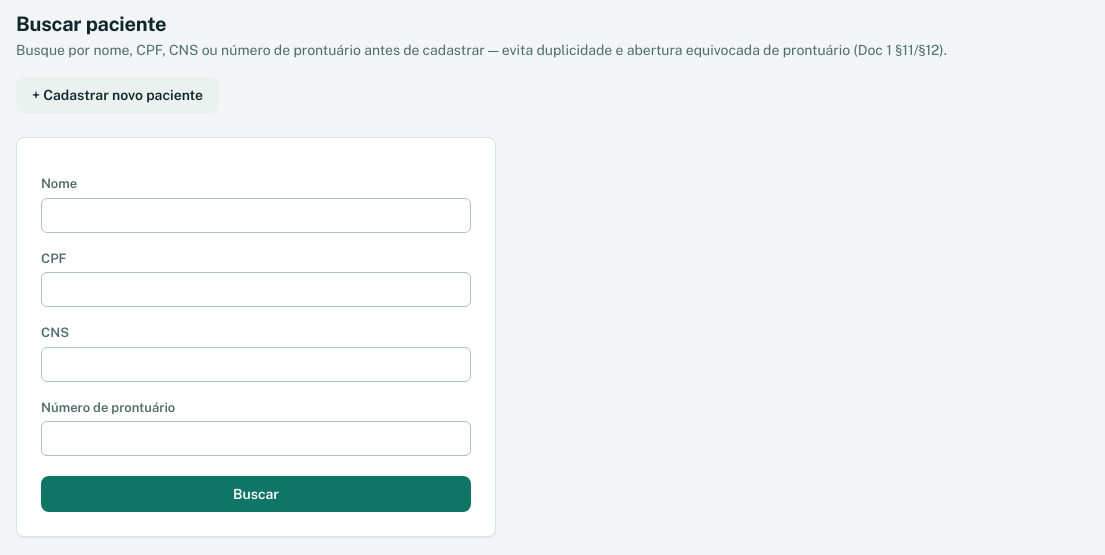
Test: PatientSearchPage › 18. sessão expirada (401) mostra tela de "precisa entrar"
In the field labelled "Nome": x=256, y=215 [41, 198, 471, 232], type "Maria"
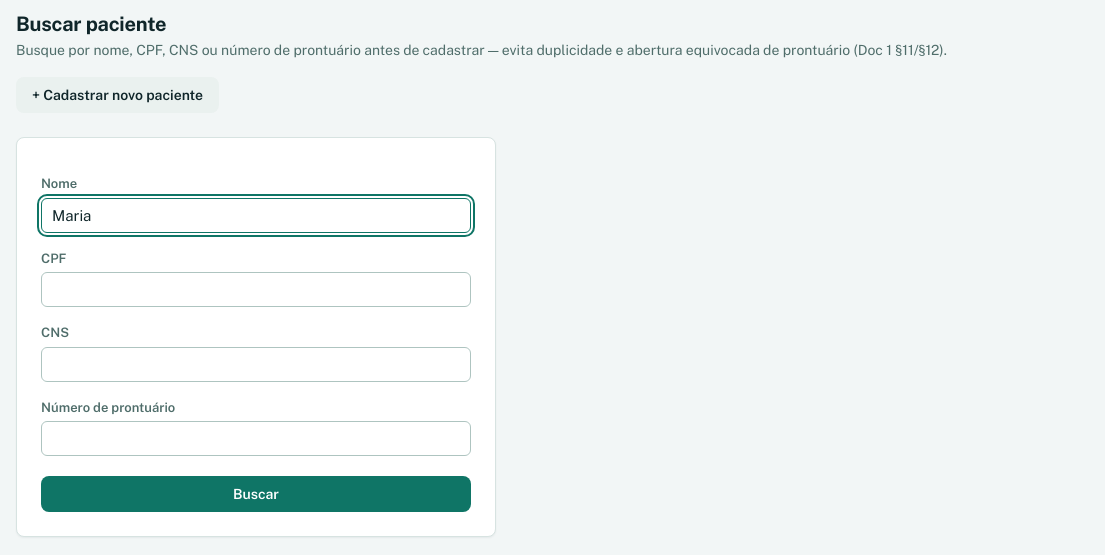
Click the button "Buscar": x=256, y=494 [41, 476, 471, 512]
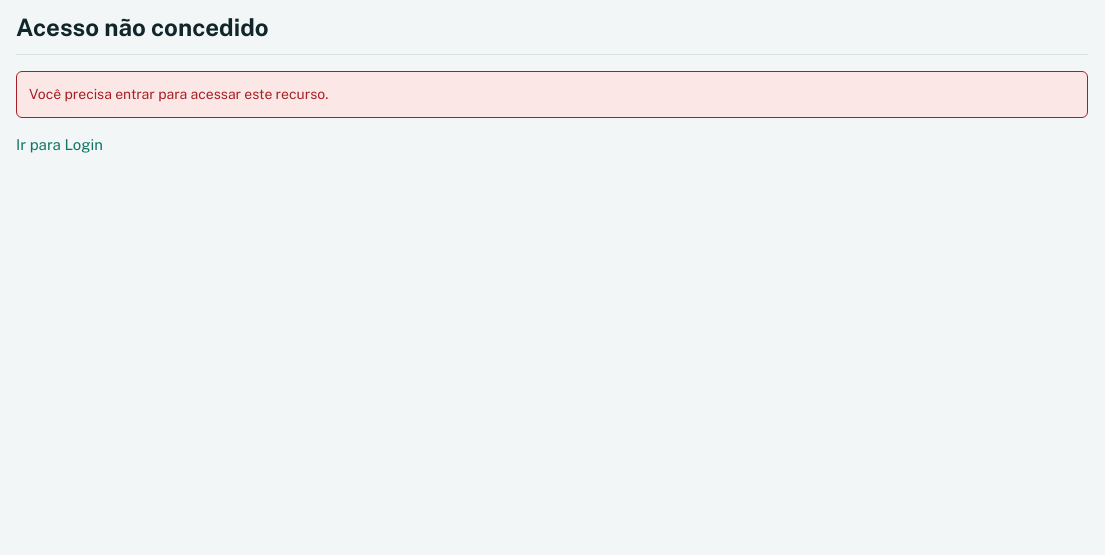
Result: the text "Você precisa entrar para acessar este recurso." is shown at [16, 71, 1088, 118]
